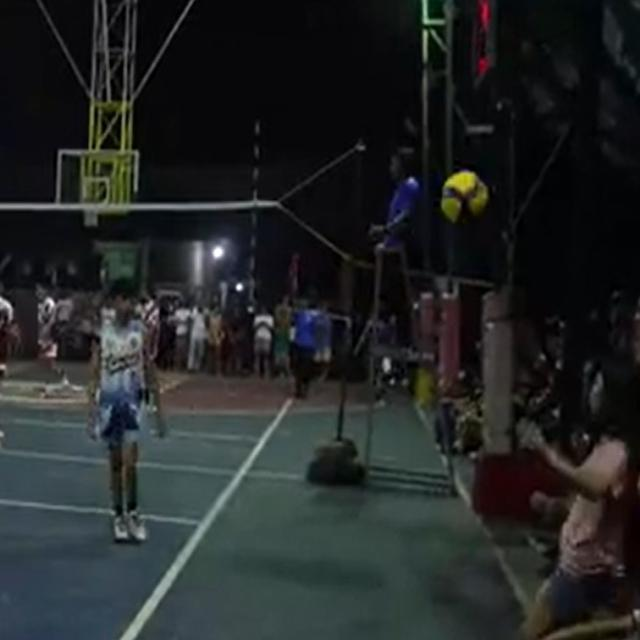volleyball: (441, 170, 489, 226)
